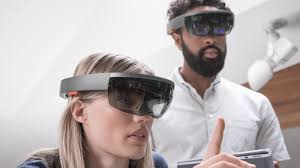hololens: (59, 72, 179, 123), (162, 10, 237, 43)
